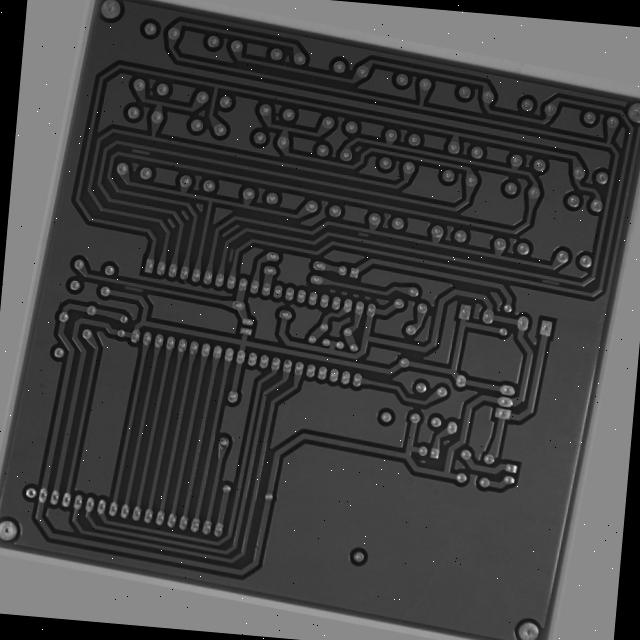spurious_copper: (89, 149, 121, 164), (556, 244, 583, 260), (99, 301, 126, 316), (207, 249, 222, 270), (349, 216, 367, 228)
